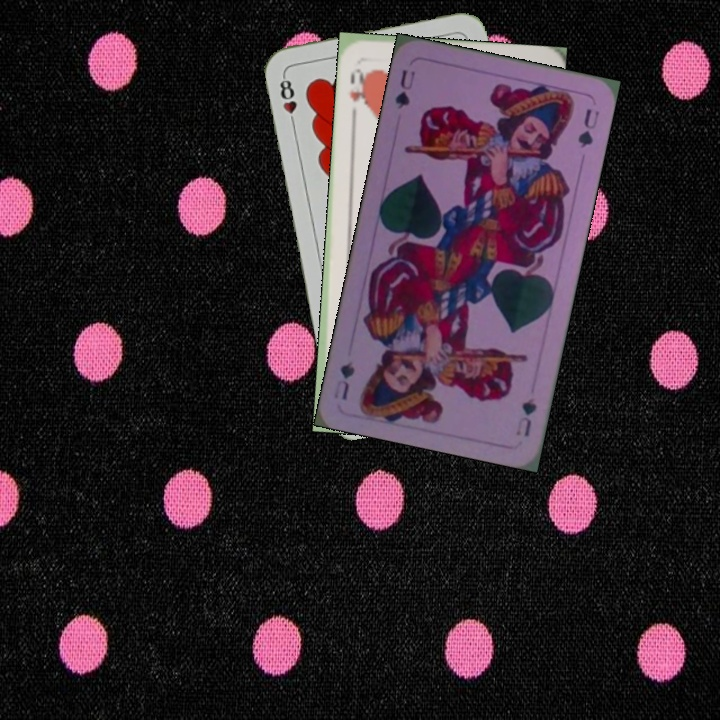GU: (511, 393, 540, 440), (391, 65, 418, 112)
H8: (276, 71, 300, 130)
HO: (346, 64, 371, 108)
